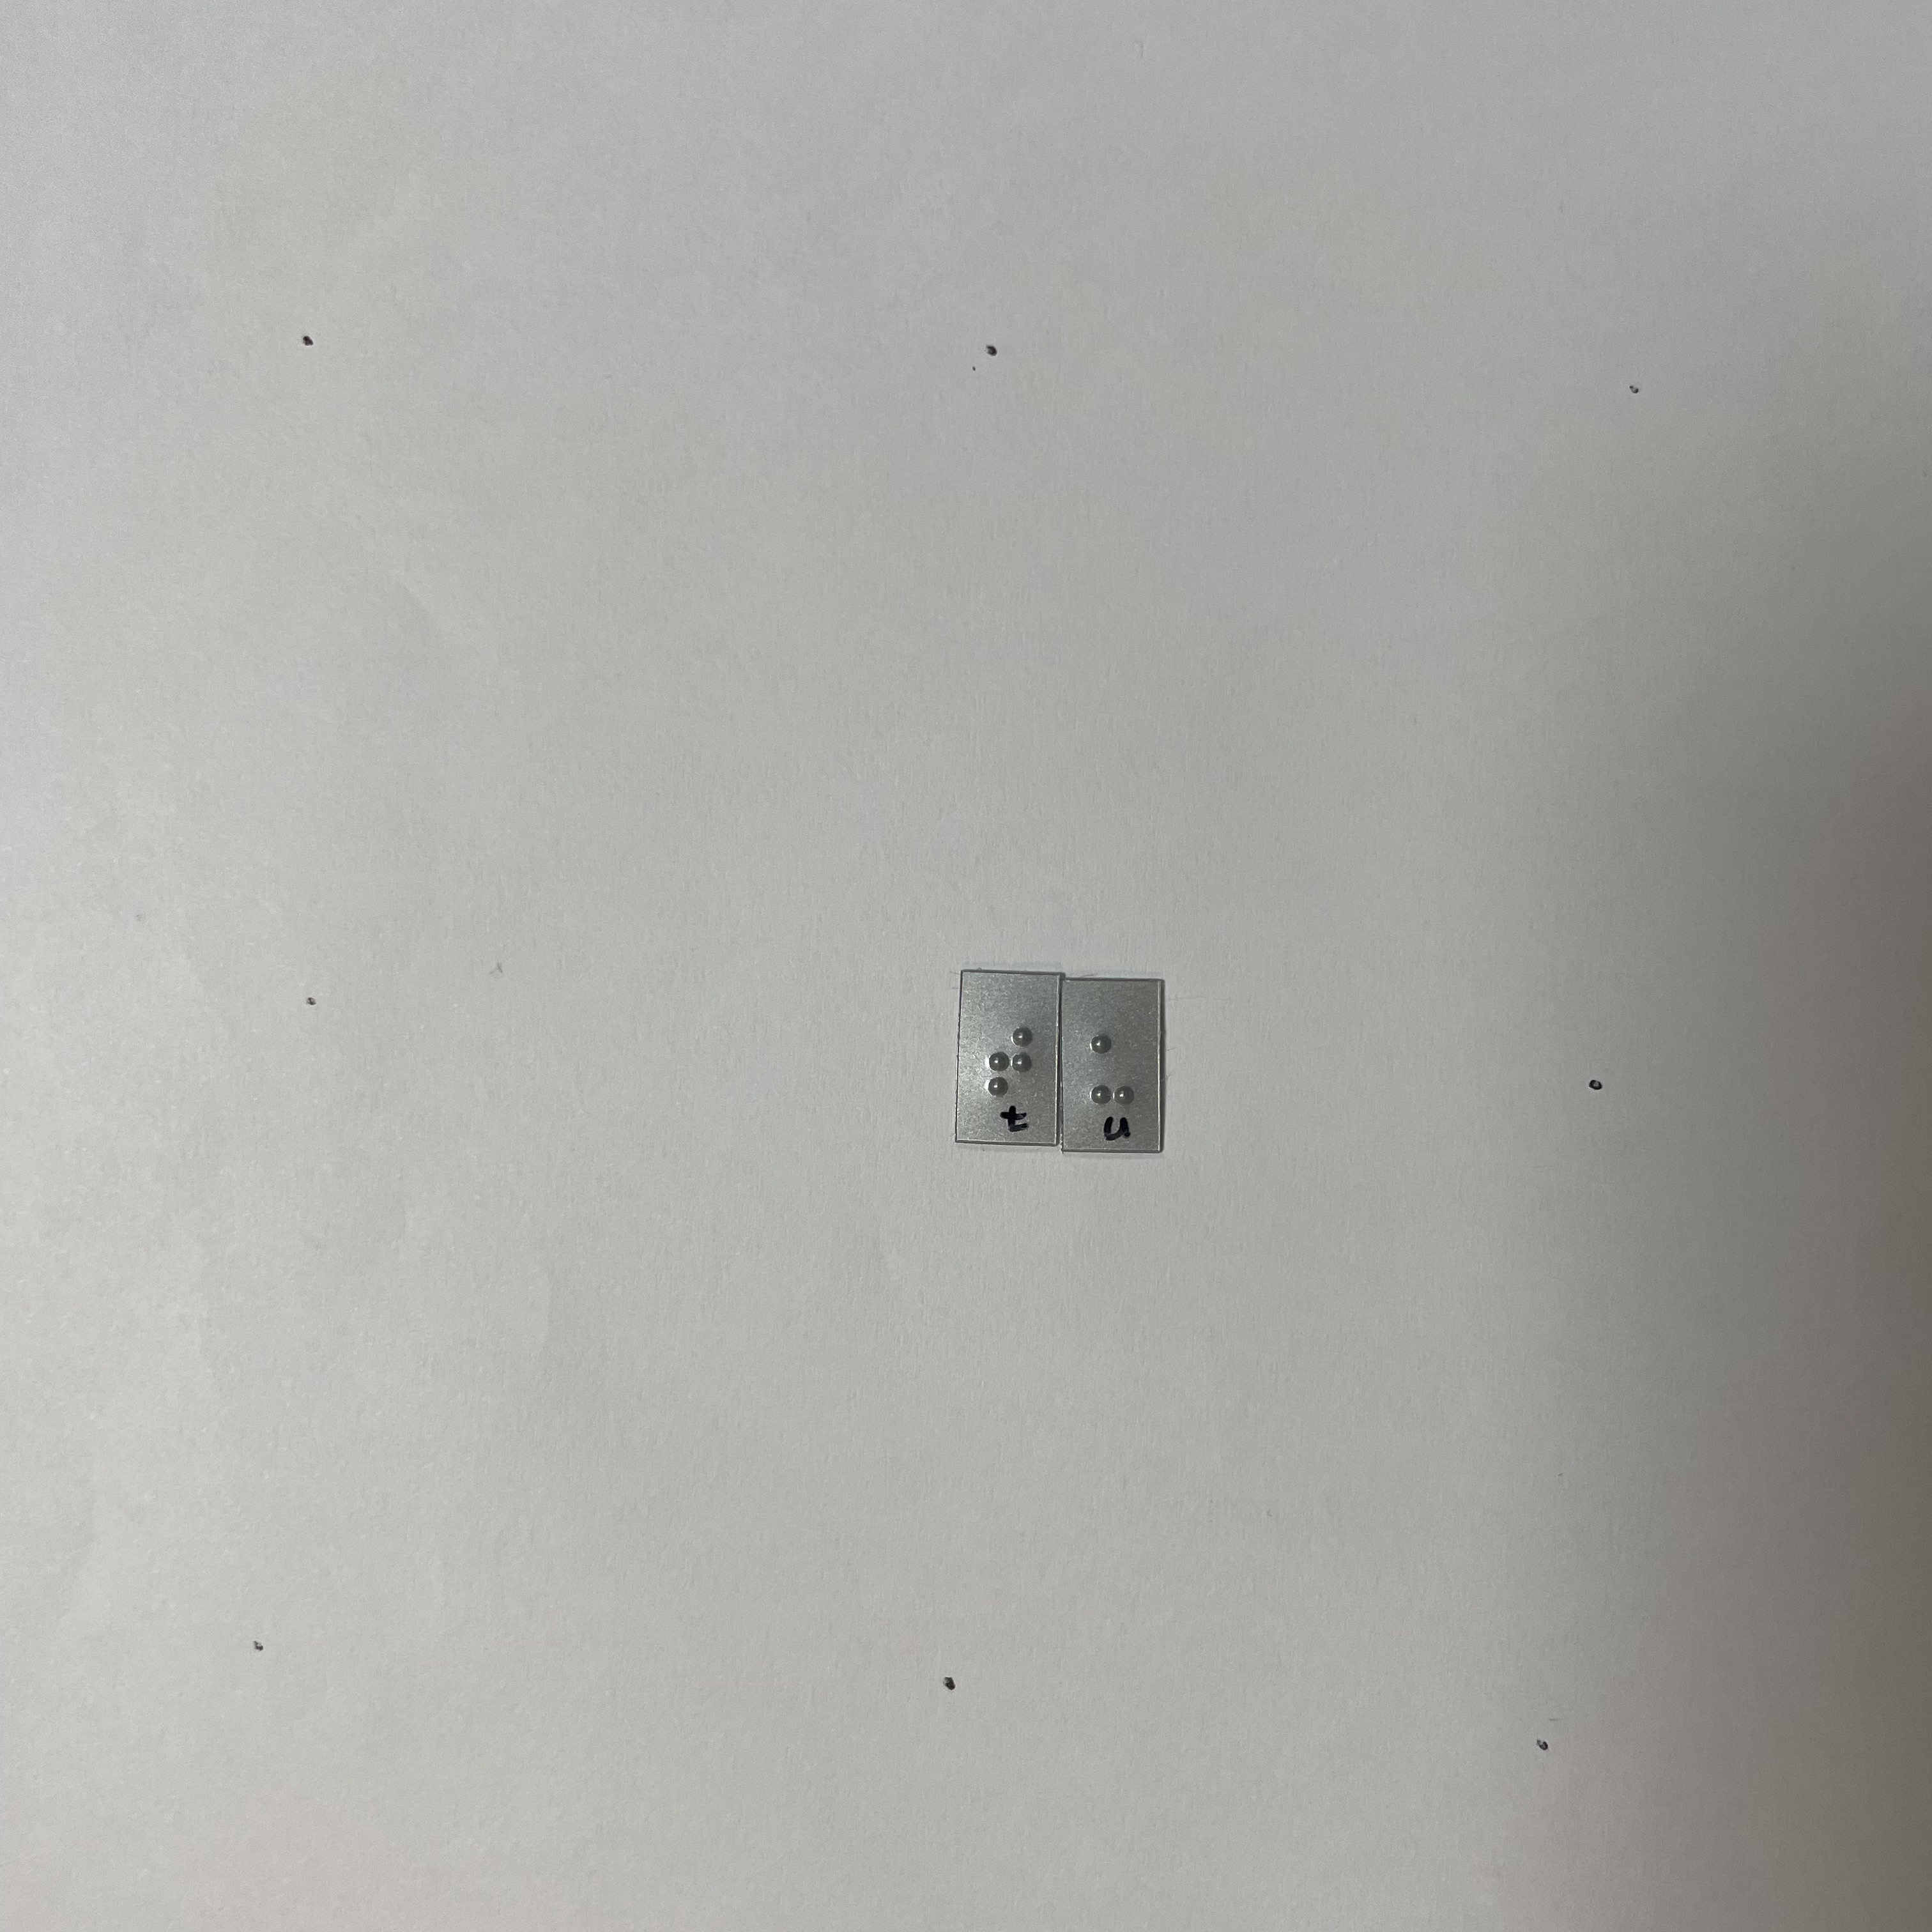t: (980, 1018, 1044, 1108)
u: (1082, 1015, 1146, 1115)
